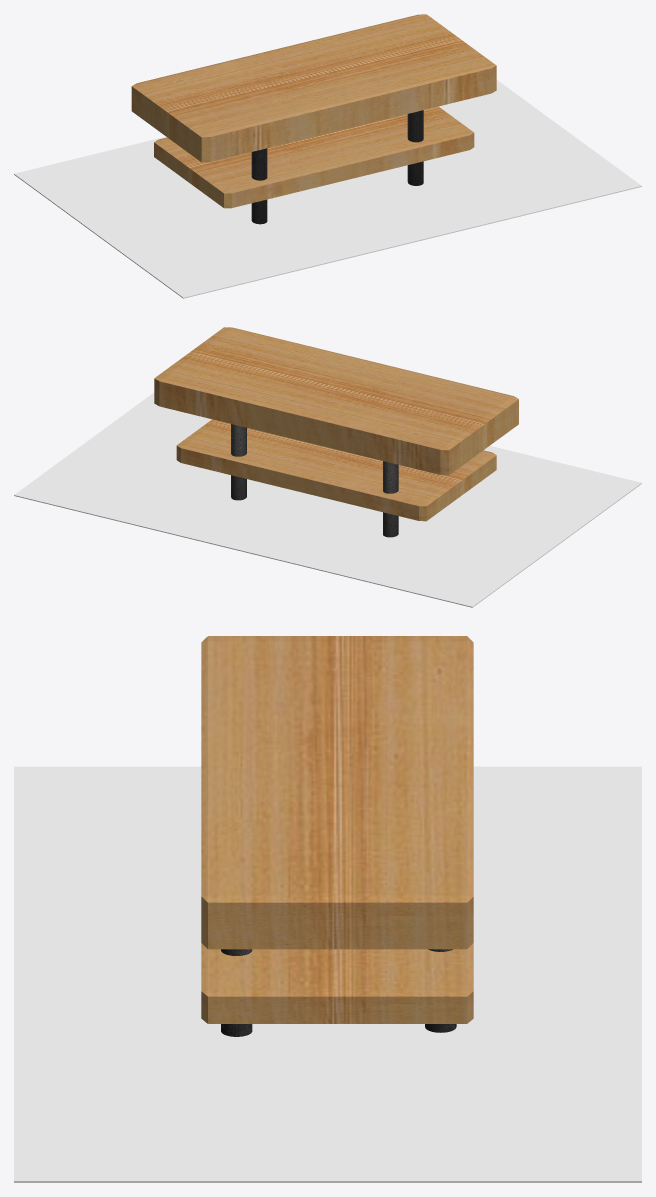
The model's file is meja.glb.
The picture shows the model from 3 angles, top to bottom: view 1: azimuth 30°, elevation 25°; view 2: azimuth 150°, elevation 25°; view 3: azimuth 270°, elevation 25°; orthographic projection. The views are drawn at different scales.
Parts seen in each view (by area): view 1: Cube, Cube.001, Cube.002, Cylinder.001, Cylinder.002; view 2: Cube, Cube.001, Cube.002, Cylinder.004, Cylinder.003; view 3: Cube, Cube.001, Cube.002.
Part boxes in pixels (<box>): Cube: <box>14,80,641,298</box>; Cube.001: <box>131,14,496,162</box>; Cube.002: <box>154,106,474,208</box>; Cylinder.001: <box>251,148,267,224</box>; Cylinder.002: <box>407,110,423,185</box>; Cube: <box>14,392,641,607</box>; Cube.001: <box>154,327,518,475</box>; Cube.002: <box>176,419,496,521</box>; Cylinder.004: <box>231,424,246,500</box>; Cylinder.003: <box>383,461,398,537</box>; Cube: <box>14,766,641,1182</box>; Cube.001: <box>201,636,473,949</box>; Cube.002: <box>201,943,473,1023</box>.
Bounding box in the file's own units: 22.54 × 5 × 14.43.
3 materials, 2 textured.
